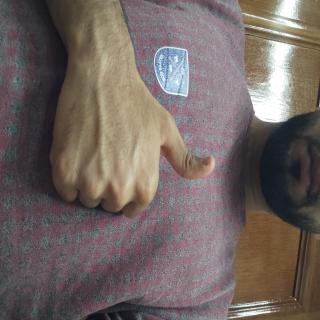ALIF: (35, 130, 167, 320)
